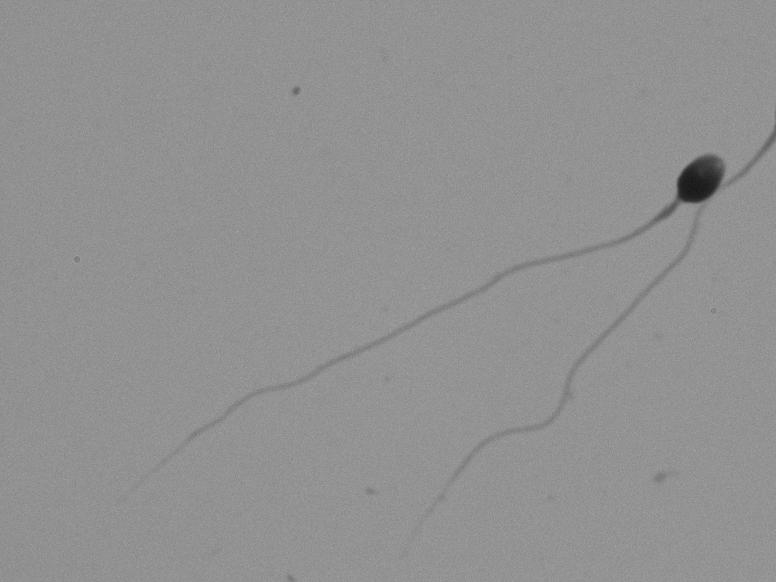Normal: (48, 132, 747, 509)
